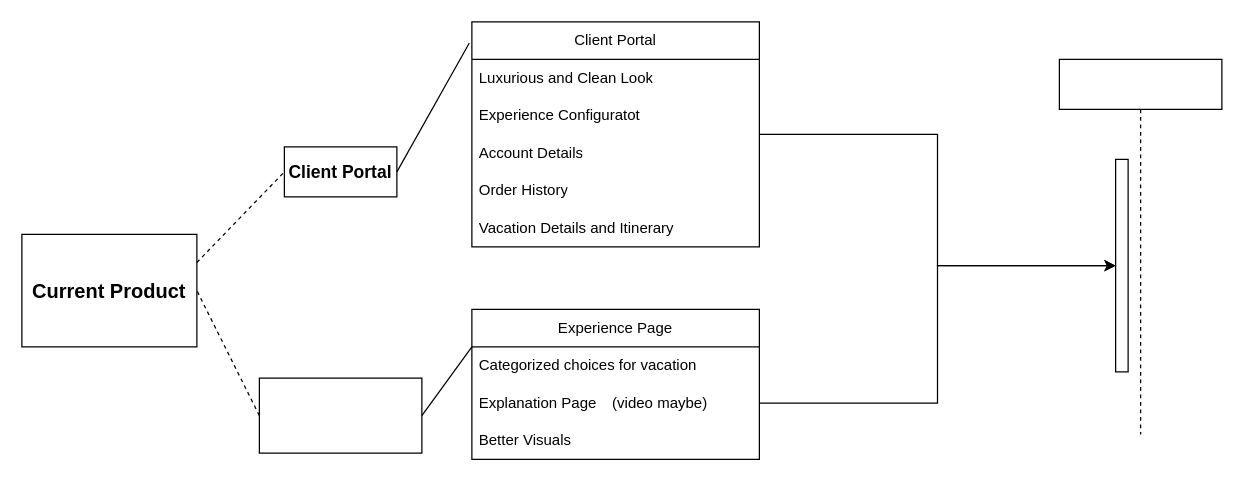
This 1244x481 diagram has some shape labels left out. The shapes that lost their labels are listed below. From the top down, each one's centre as x and y in pixels, then its label:
pixel 1140 246: Minimum Viable Product
pixel 340 415: Streamlined Experiences Page
